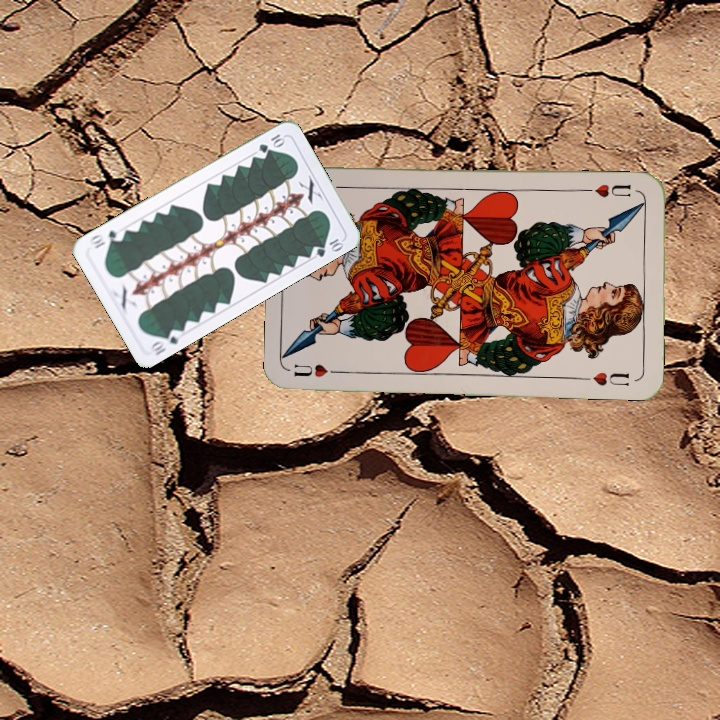G10: (147, 325, 185, 359), (255, 130, 287, 155)
HU: (290, 360, 347, 380), (583, 180, 634, 200)
